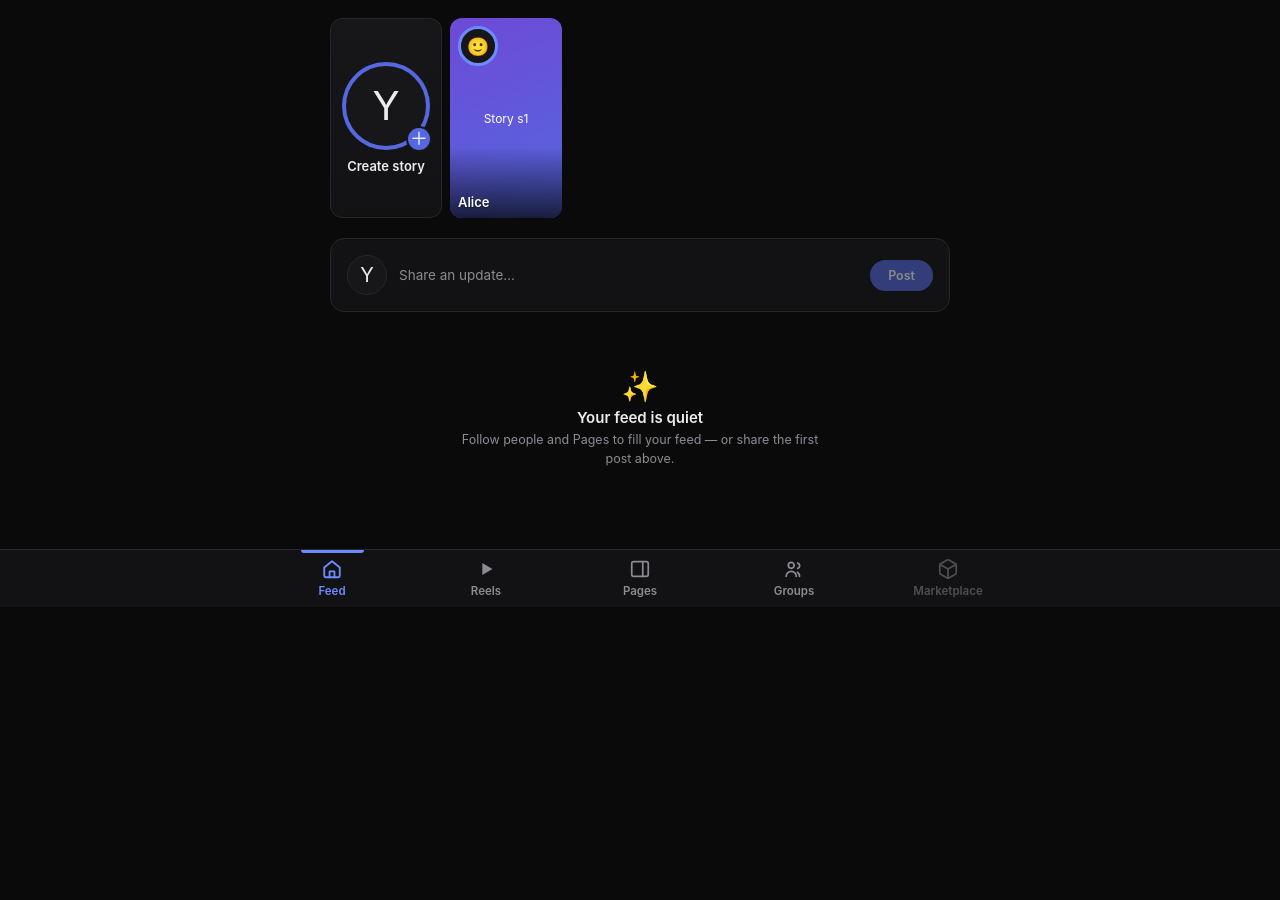
Test case: FeedView action hierarchy › dims a story tile once viewed (EXP-2)
The image size is (1280, 900).
Click the button "Story s1 🙂 Alice" at (506, 118), box [450, 18, 562, 218]
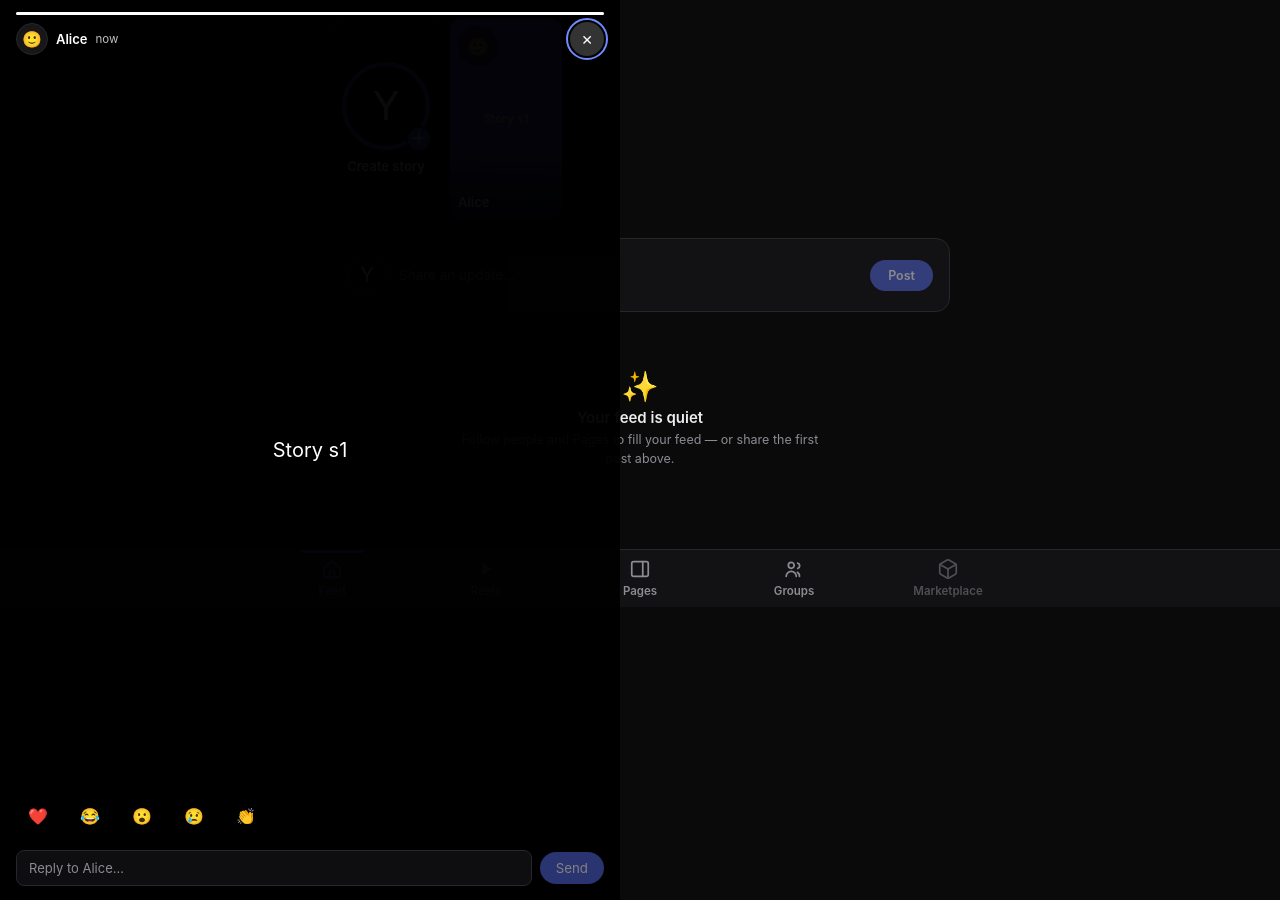
Check: the dialog named "Story by Alice" is shown, box [0, 0, 620, 899]
